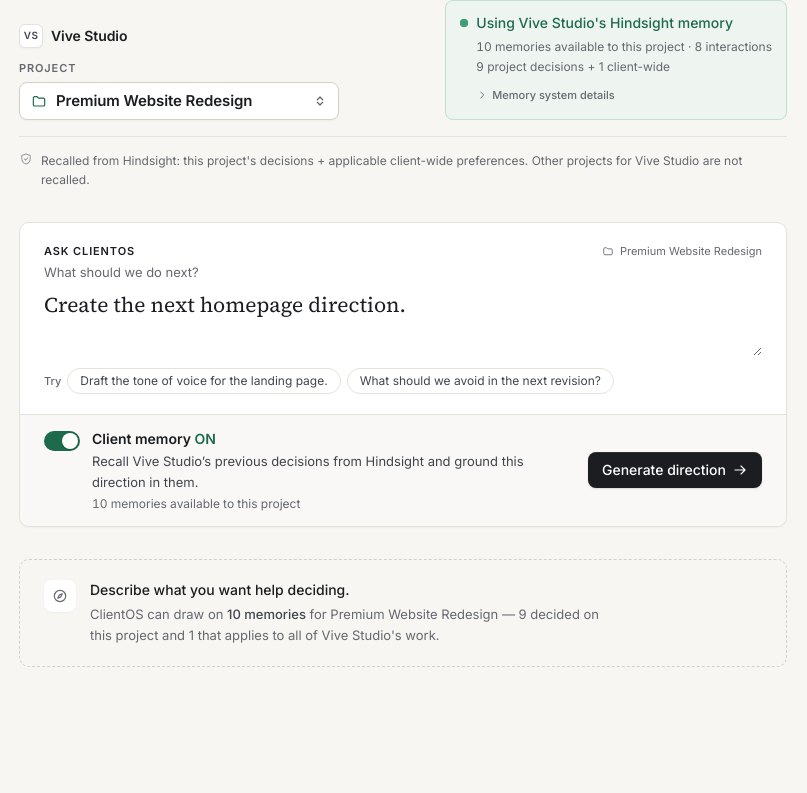
Test case: AIWorkspace — memory off vs on comparison › editing the request drops the comparison — a baseline answers ONE question
Click the checkbox labelled "Client memory" at (308, 470), box [44, 429, 572, 512]
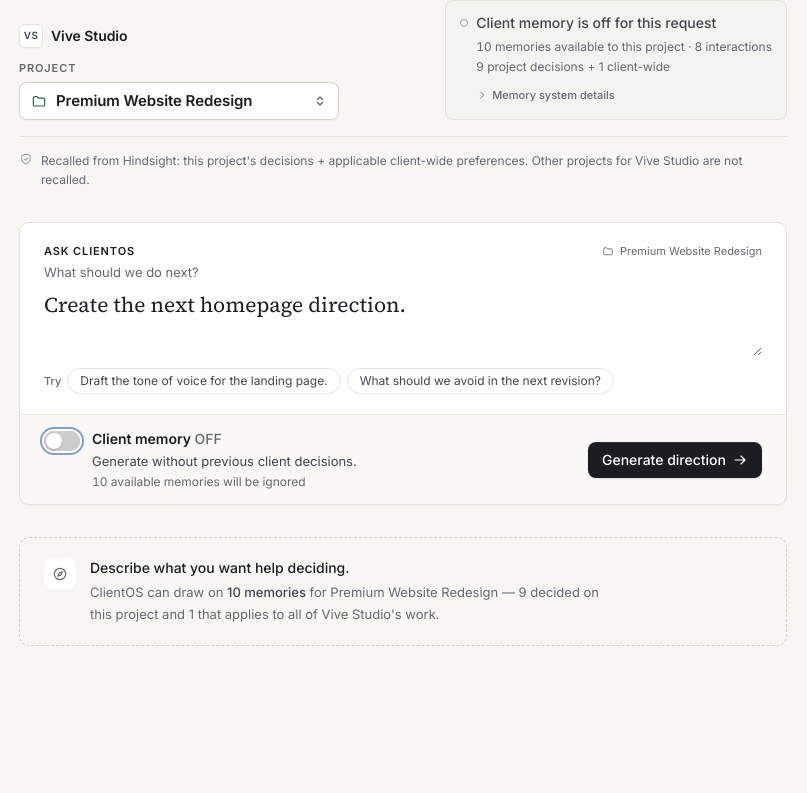
Click the button "Generate direction" at (675, 460), box [588, 442, 762, 478]
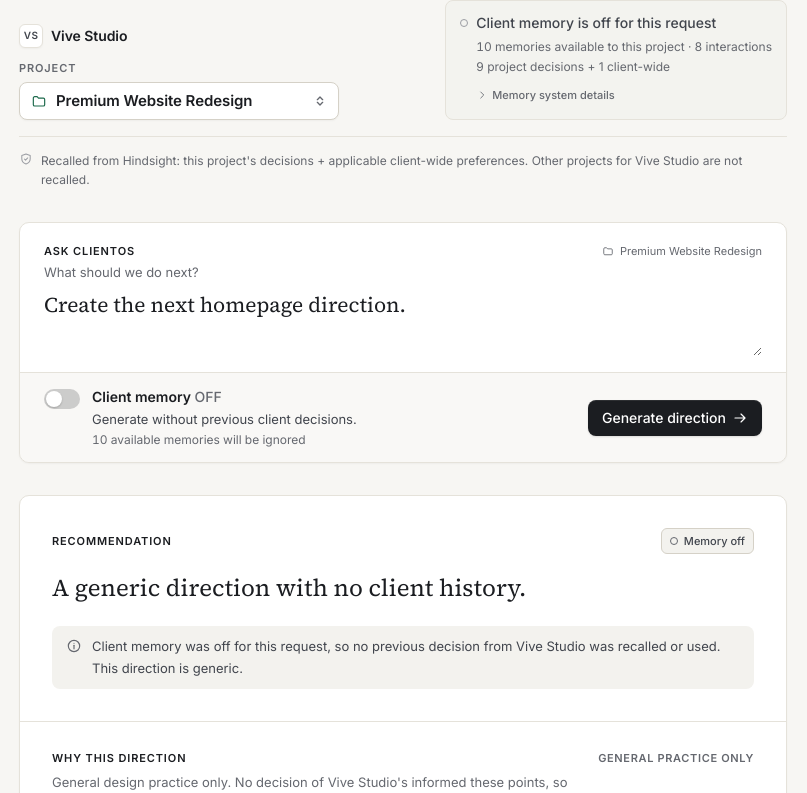
Expected: the heading "Recommendation" is shown, [52, 533, 172, 549]
Expected: the text "A generic direction with no client history." is shown, [52, 571, 526, 604]
Replace the text in the text box labelled "What should we do next?" with "Draft the tone of voice." at (403, 322), box [44, 288, 762, 356]
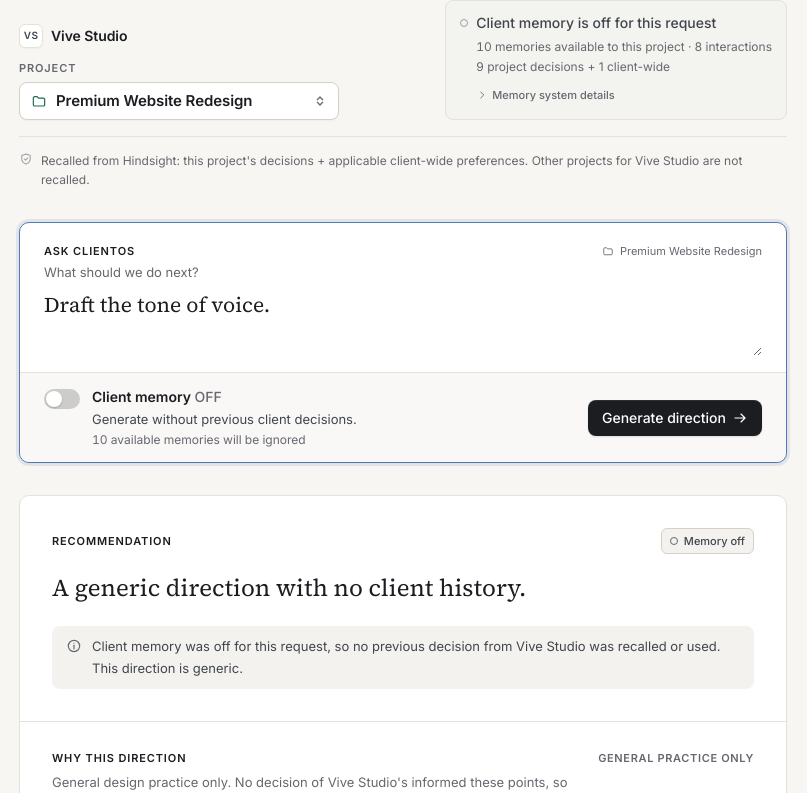
Click the checkbox labelled "Client memory" at (200, 418), box [44, 387, 357, 448]
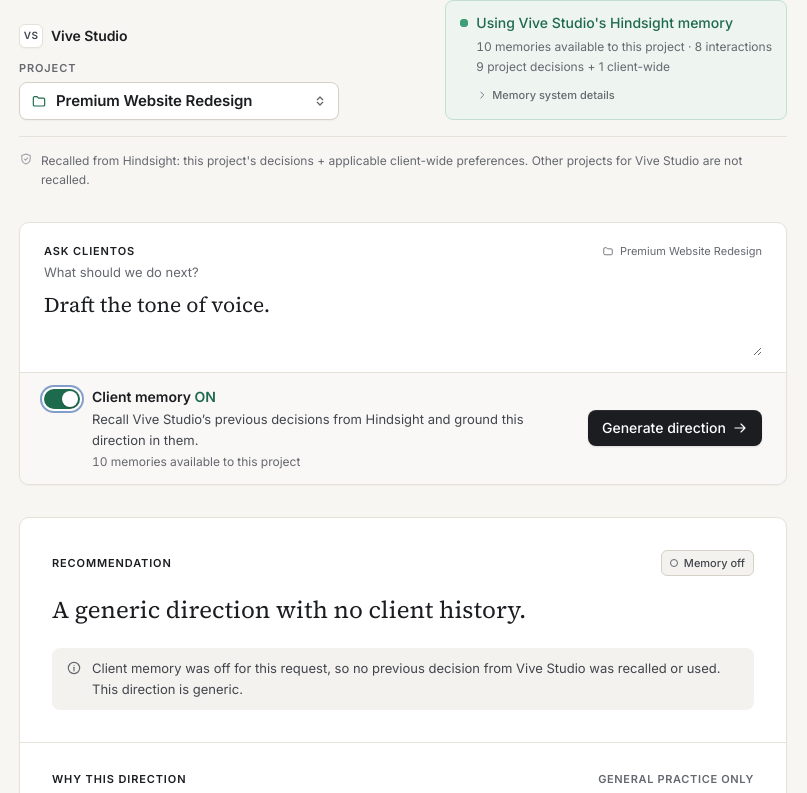
Click the button "Generate direction" at (675, 428), box [588, 410, 762, 446]
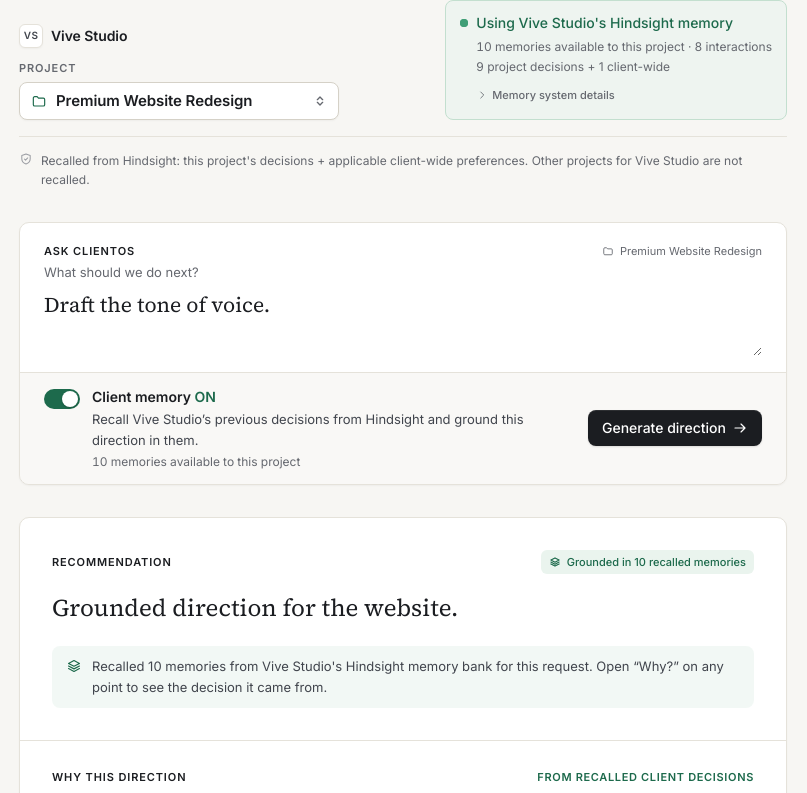
Expected: the heading "Recommendation" is shown, [52, 554, 172, 570]
Expected: the text "Grounded direction for the website." is shown, [52, 590, 458, 624]
